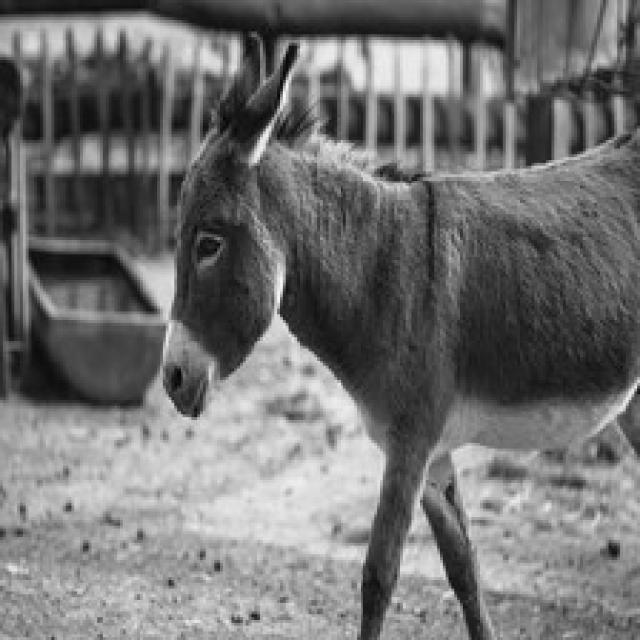Donkey: (157, 32, 637, 637), (0, 49, 26, 637)
